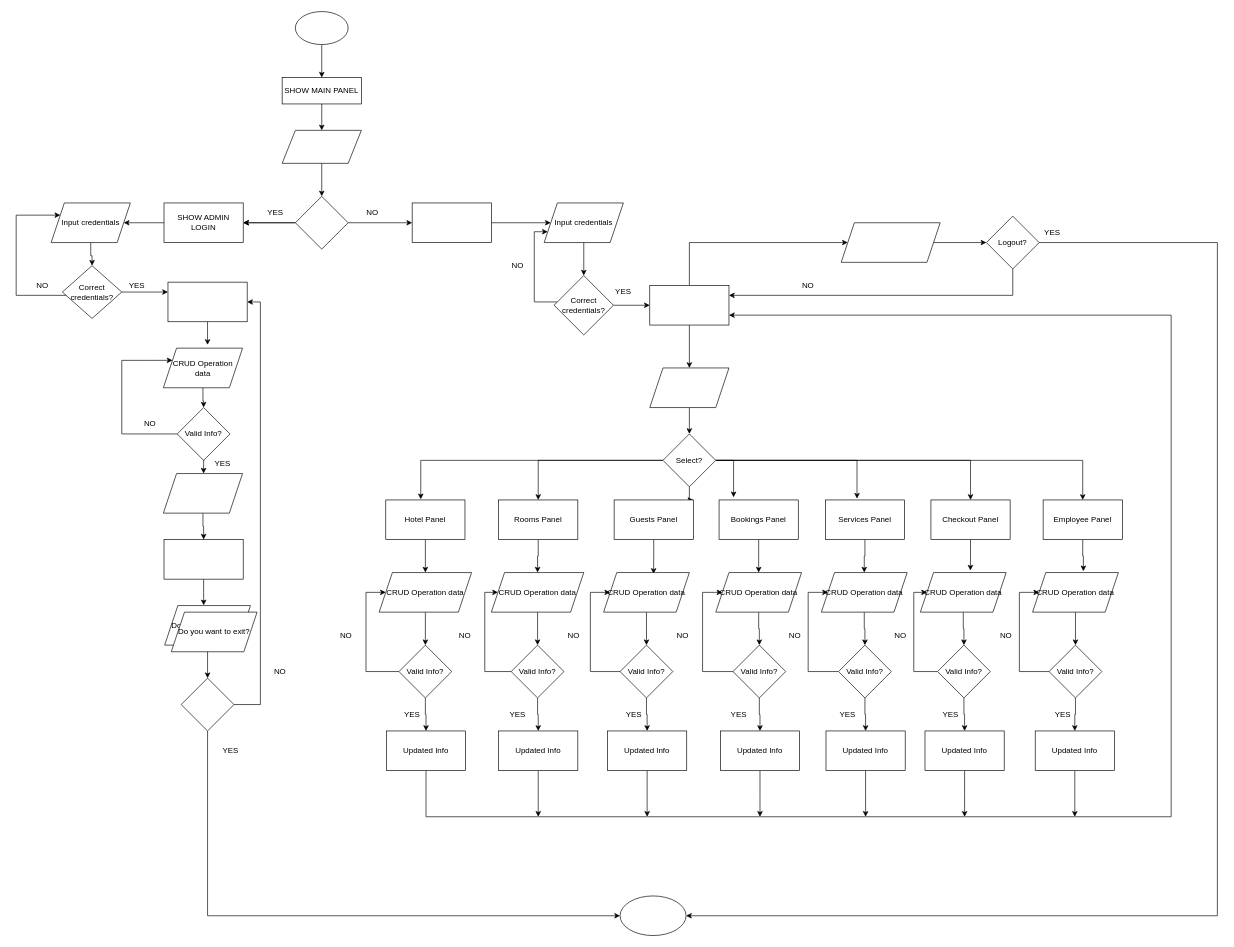
Image size: 1234x947. Some labels were removed from this diagram. The shapes that lost their labels are listed below. From the top down, each one's centre as x and y in pixels, then its label:
At (321,28): "START".
At (321,146): "Who are you?".
At (321,222): "If Admin?".
At (451,222): "SHOW USER LOGIN".
At (890,242): "Do you want to logout?".
At (207,301): "SHOW ALL HOTELS SCREEN".
At (689,305): "SHOW DASHBOARD".
At (689,387): "Choose Category".
At (203,493): "Process data".
At (203,559): "Show changes".
At (207,704): "Exit?".
At (652,915): "END".
